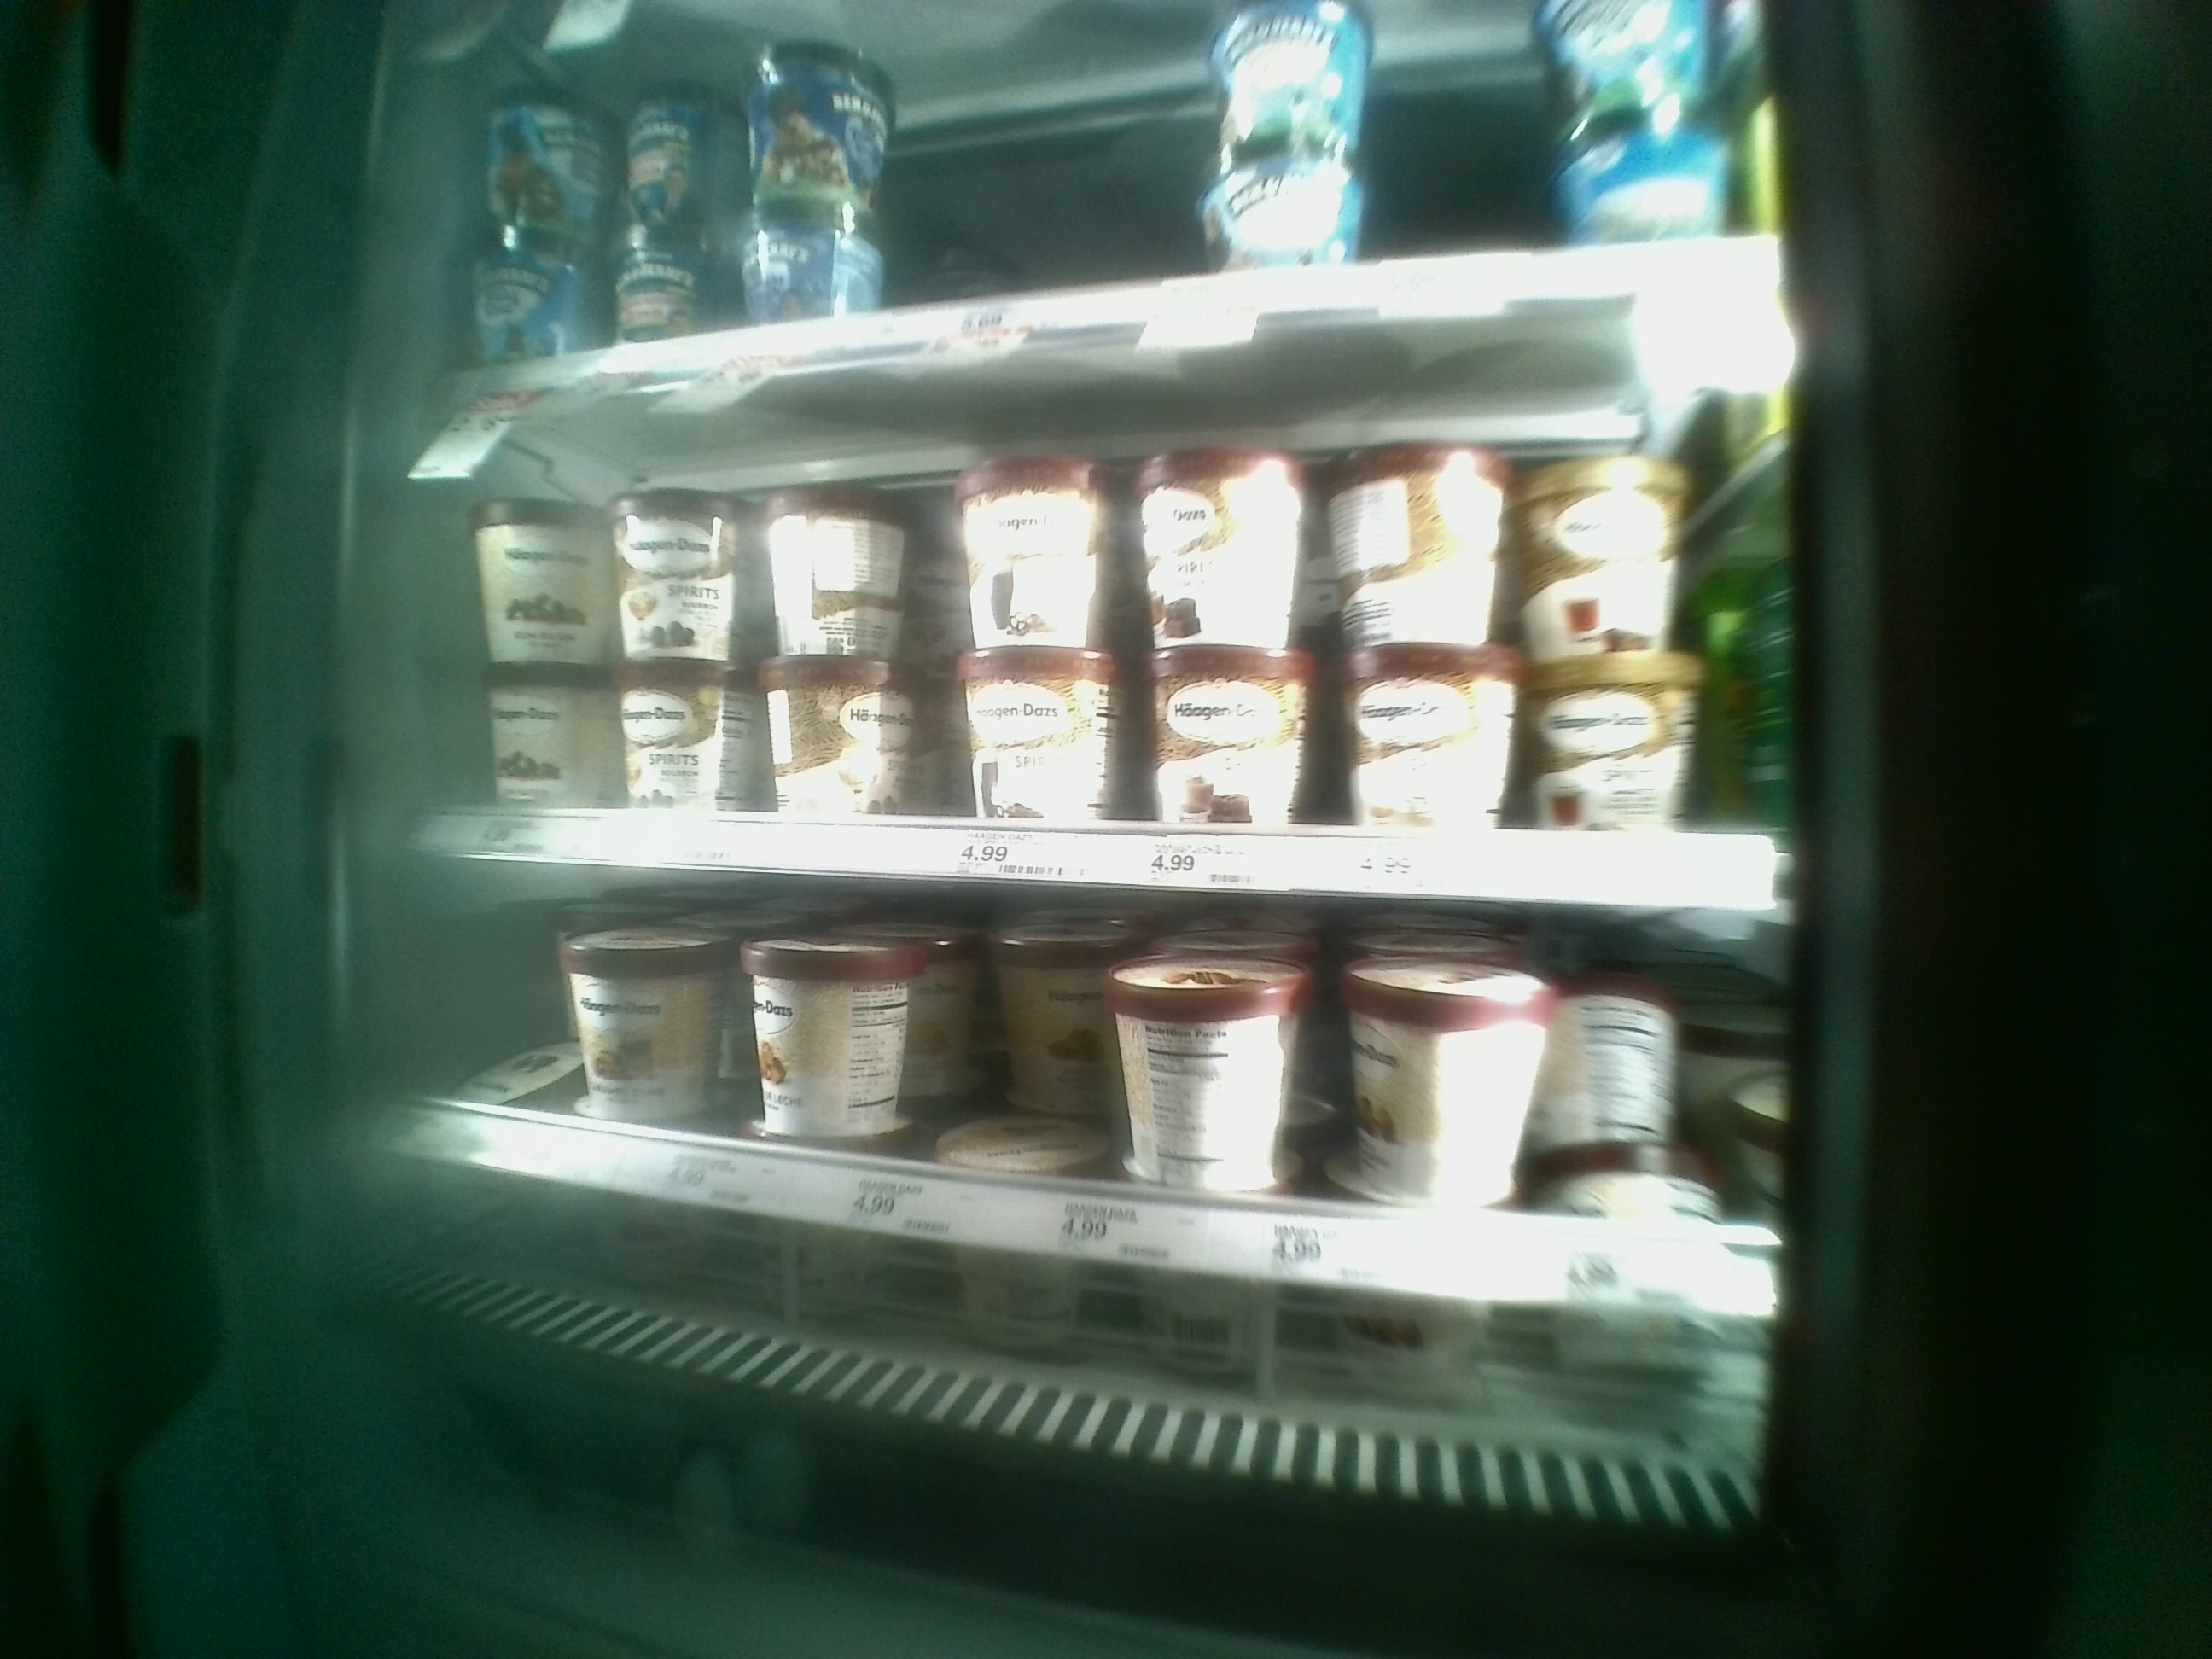shelf: (441, 289, 1804, 917), (420, 873, 1780, 1429)
